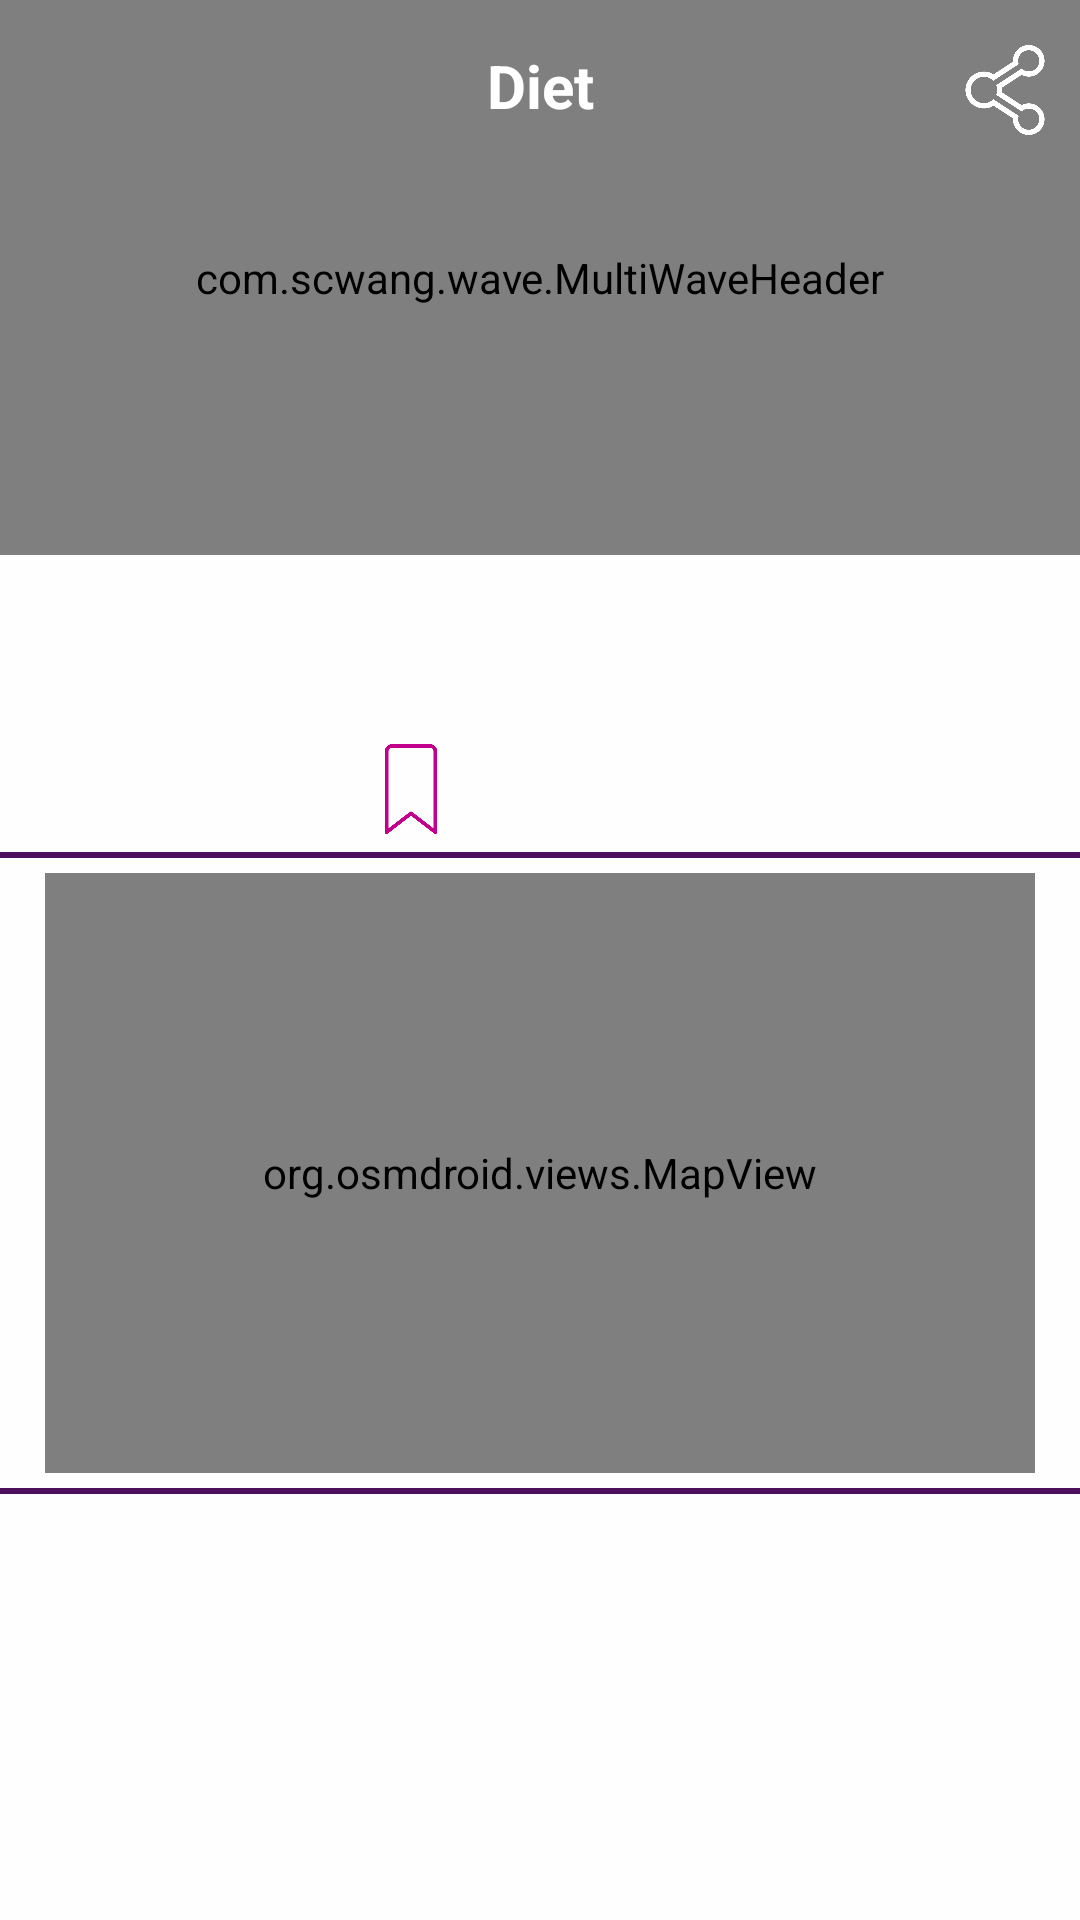

Screen size 1080 × 1920. Icon name, then its box in pixels as {"x1": x1, "y1": y1, "x2": x2, "y2": y2}:
bookmark: {"x1": 385, "y1": 744, "x2": 437, "y2": 834}
share: {"x1": 965, "y1": 45, "x2": 1045, "y2": 135}
